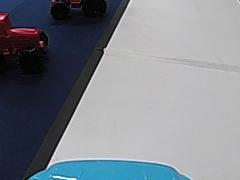Tracktor: (0, 10, 49, 72), (46, 0, 110, 20)
